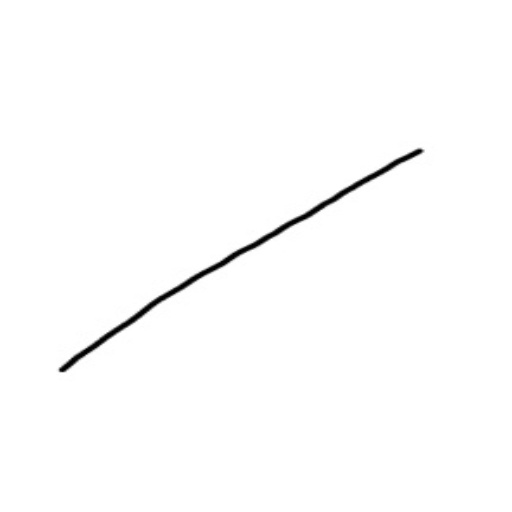line: (49, 142, 428, 381)
